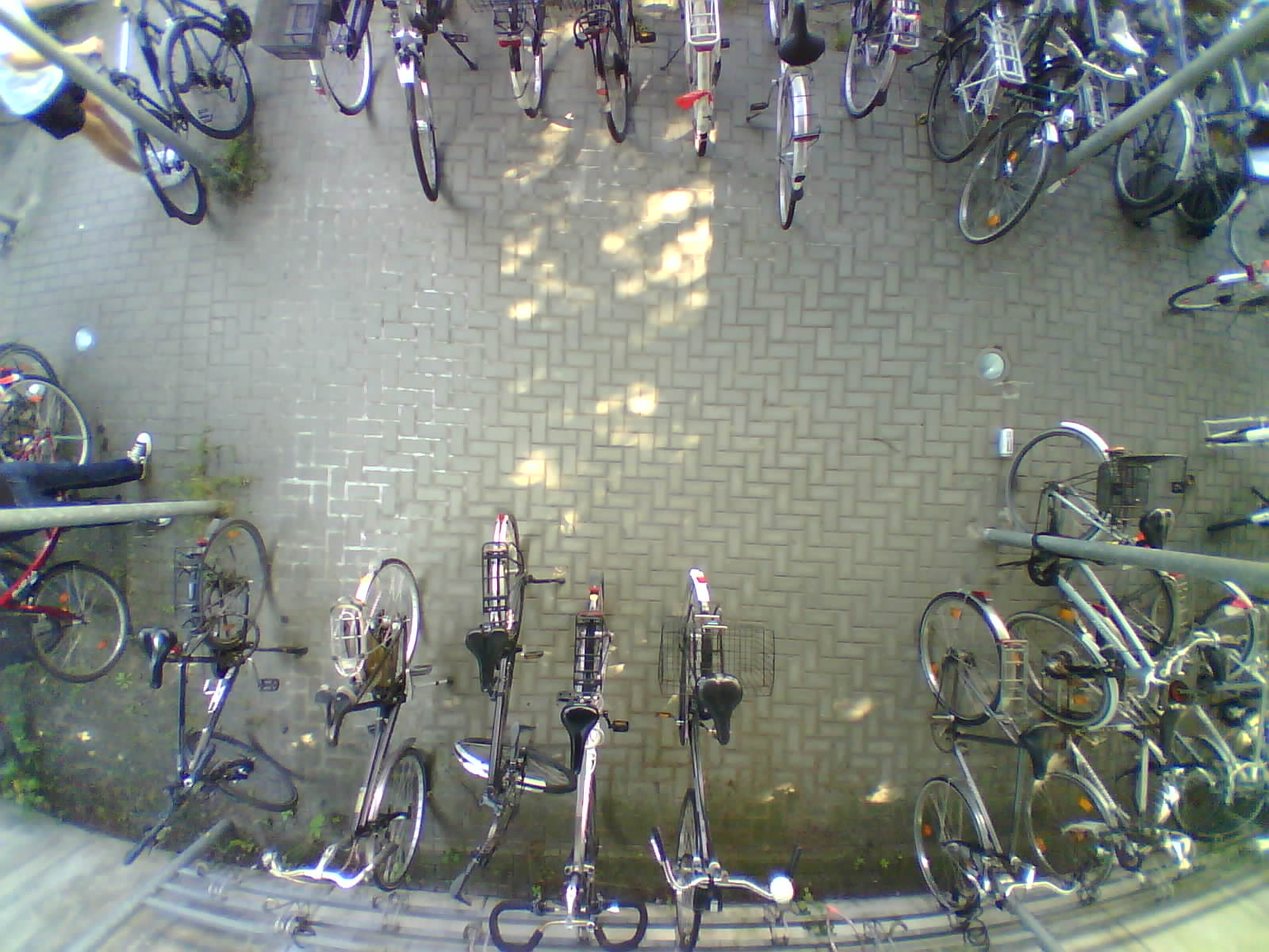bicylce: (999, 409, 1158, 724), (1083, 547, 1256, 832), (1033, 588, 1152, 908), (0, 370, 111, 688), (658, 571, 749, 952), (324, 555, 429, 884), (180, 514, 279, 820), (929, 587, 1015, 914), (470, 513, 543, 886), (555, 572, 622, 947), (977, 0, 1072, 250), (128, 0, 202, 231)
saddle: (698, 670, 746, 748), (777, 0, 825, 70), (316, 679, 362, 747), (1019, 718, 1066, 780), (466, 630, 512, 693), (560, 704, 598, 772), (137, 624, 174, 689), (1106, 11, 1150, 61), (1140, 501, 1179, 556), (1153, 697, 1184, 760), (1204, 638, 1228, 685), (1246, 79, 1269, 119)
